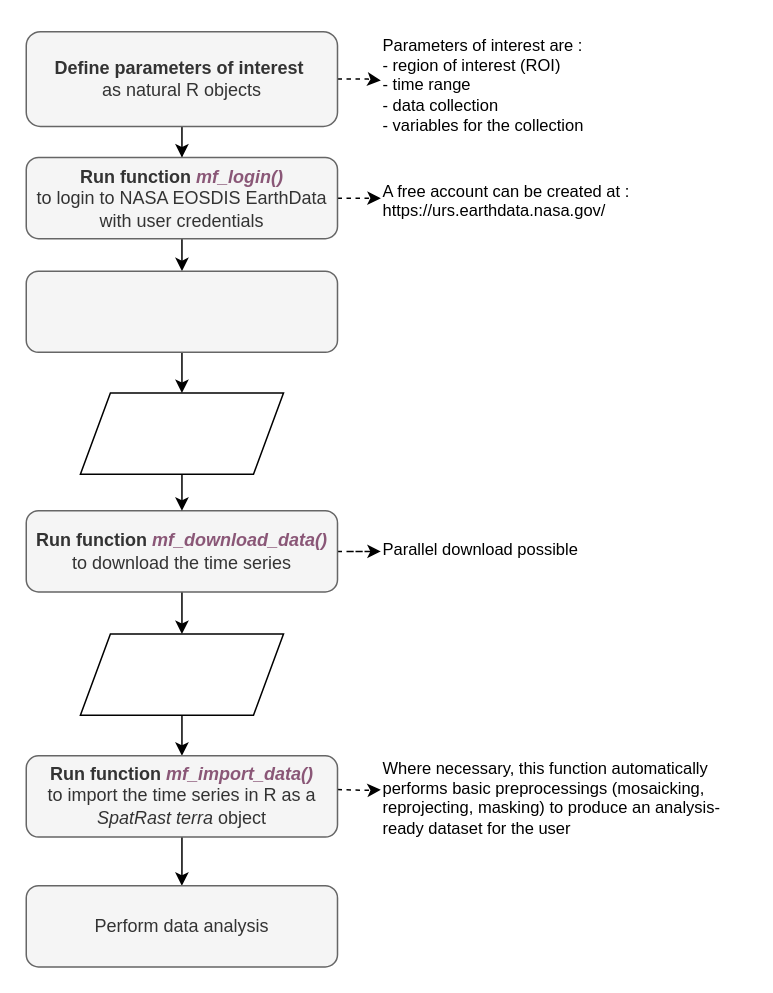
This 773x993 diagram has some shape labels left out. The shapes that lost their labels are listed below. From the top down, each one's box as (x1, y1, x2, y2) in pixels, then its label:
(25, 270, 338, 352): Run function mf_get_url() to build the URL(s) of the time series
(79, 392, 284, 474): data.frame of OPeNDAP URLs
(79, 633, 284, 715): Data in NetCDF format stored locally
